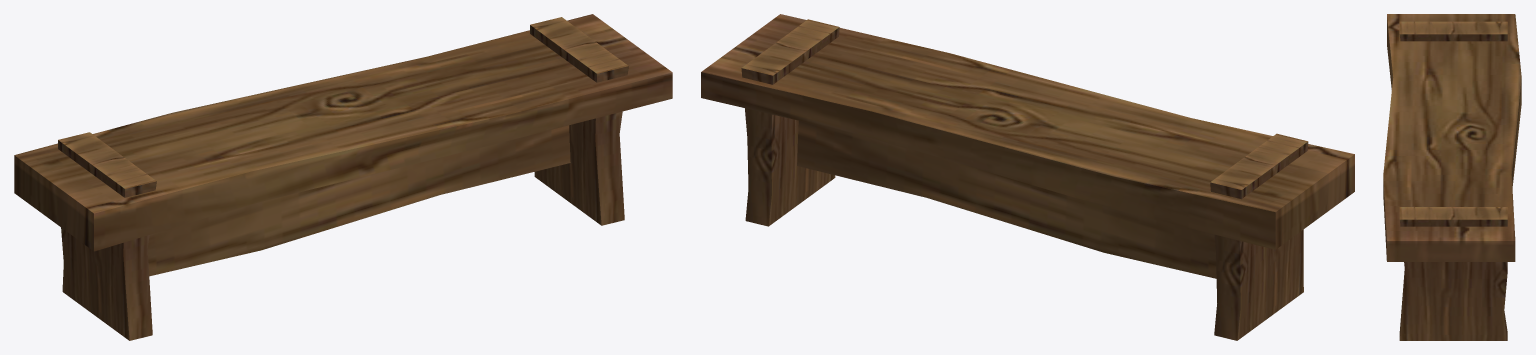
The model's file is fanasty_mod_bench.fbx.
The picture shows the model from 3 angles, left to right: view 1: azimuth 30°, elevation 25°; view 2: azimuth 150°, elevation 25°; view 3: azimuth 270°, elevation 25°; orthographic projection. The views are drawn at different scales.
Visible parts, largest first — view 1: bench; view 2: bench; view 3: bench.
Part boxes in pixels (box(x1,y1,x2,y2)): bench: box(14, 14, 672, 340); bench: box(701, 14, 1354, 340); bench: box(1383, 14, 1521, 340).
Bounding box in the file's own units: 2.5 × 0.6311 × 0.6432.
